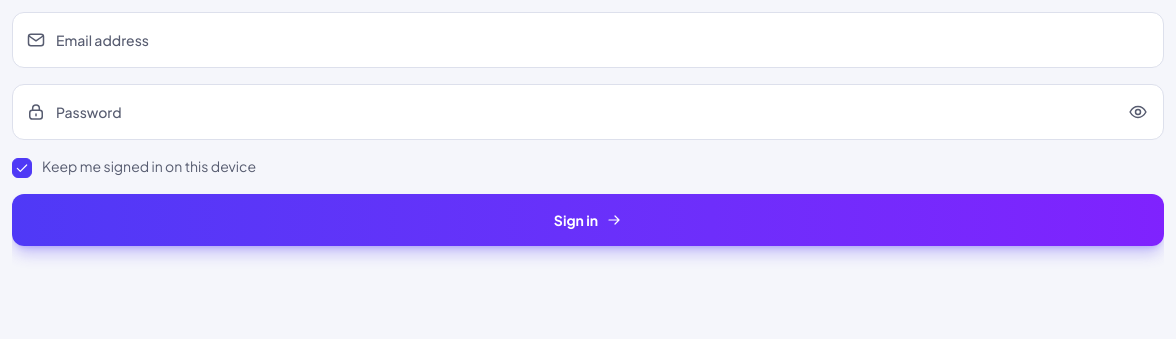
Scenario: LoginForm › shows the message from a rejected sign in
In the field labelled "Email address": (588, 40) [12,12,1164,68], type "asha@example.com"
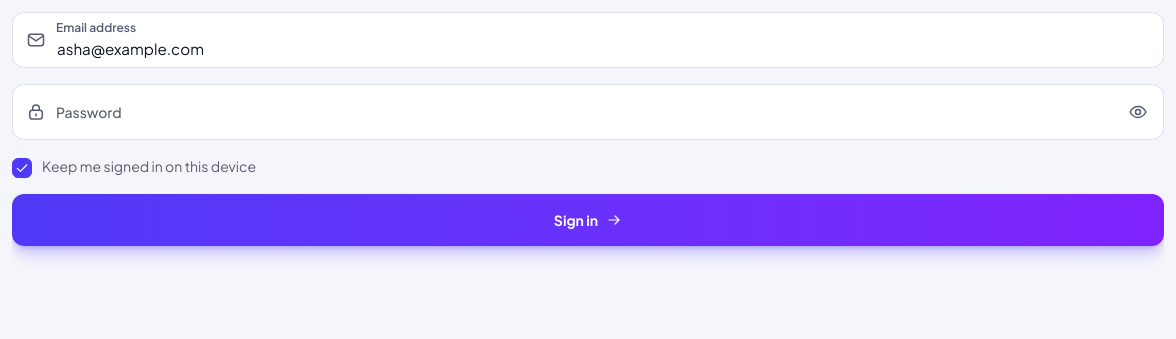
In the password field labelled "Password": (588, 112) [12,84,1164,140], type "wrong-pass-1"
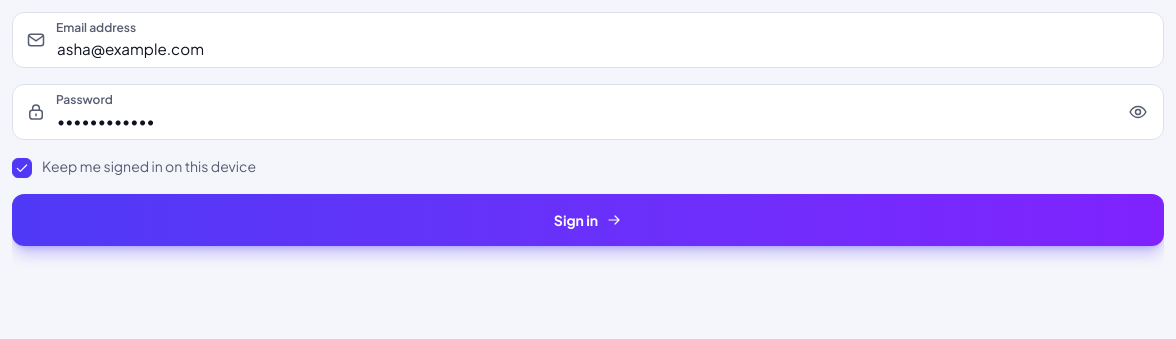
Click the button "Sign in": (588, 220) [12,194,1164,246]
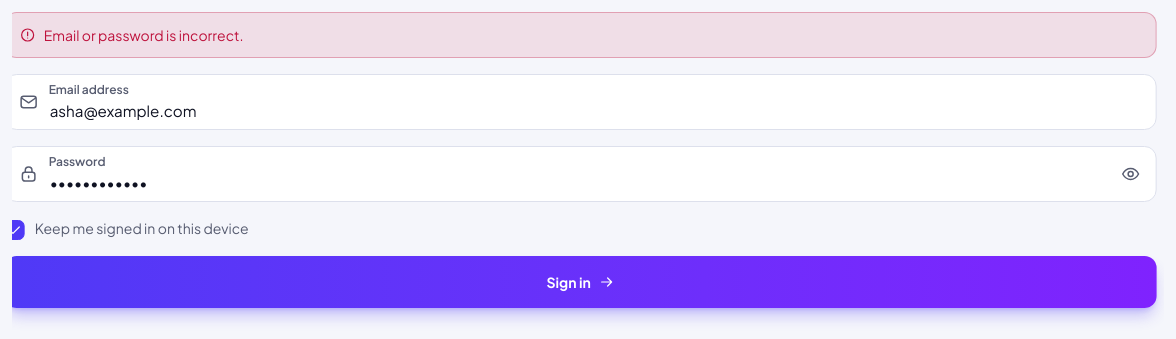
Now the message reads "Email or password is incorrect.", box [48,26,248,44]
